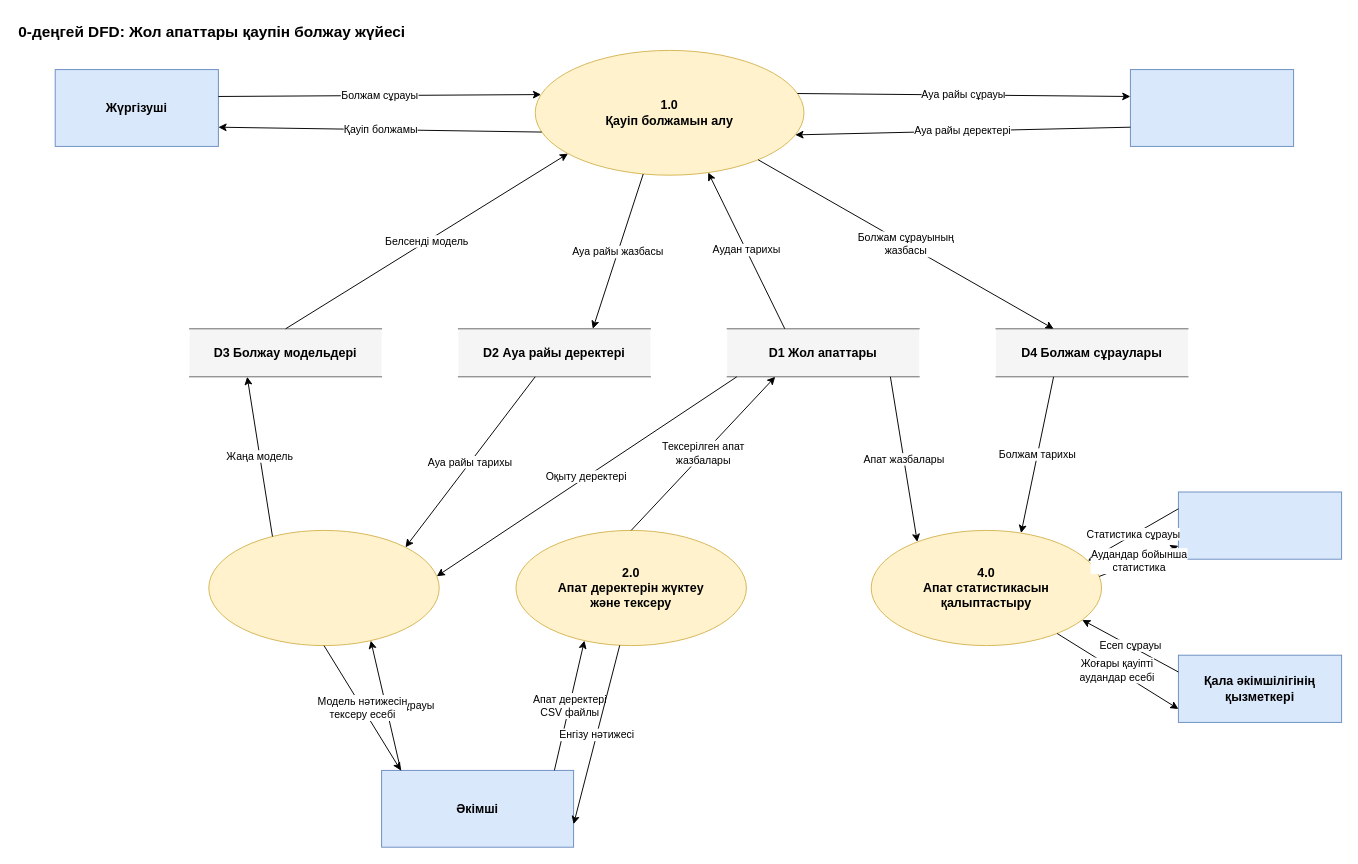
This 1358x864 diagram has some shape labels left out. The shapes that lost their labels are listed below. From the top down, each one's centre as x and y in pixels, then its label:
(1211,107): Ауа райы сервисі
(1259,525): Жол қауіпсіздігі маманы
(323,587): 3.0 Болжау моделін қайта оқыту
